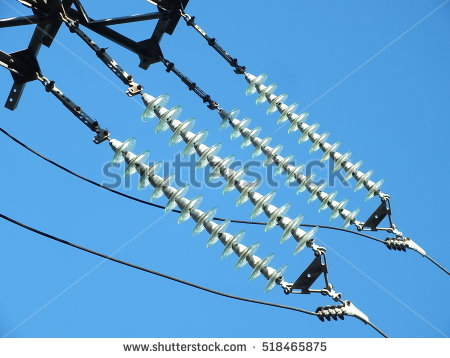isolator: (112, 93, 320, 294), (219, 72, 385, 229)
